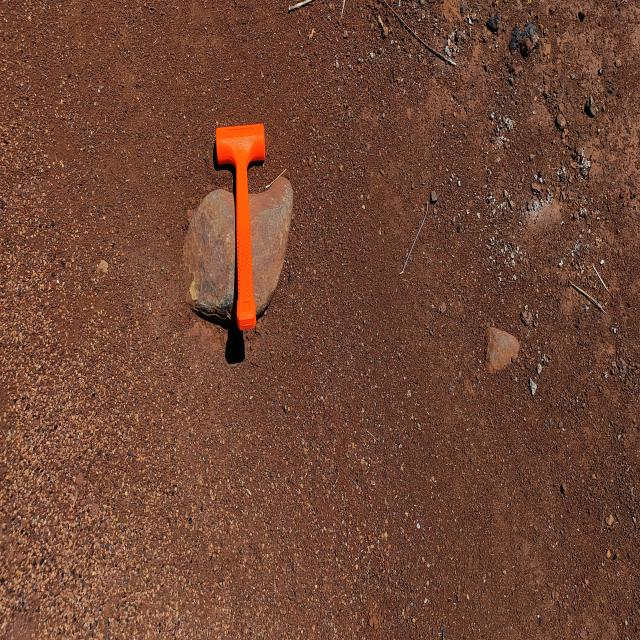Orange_hammer: (213, 121, 266, 332)
